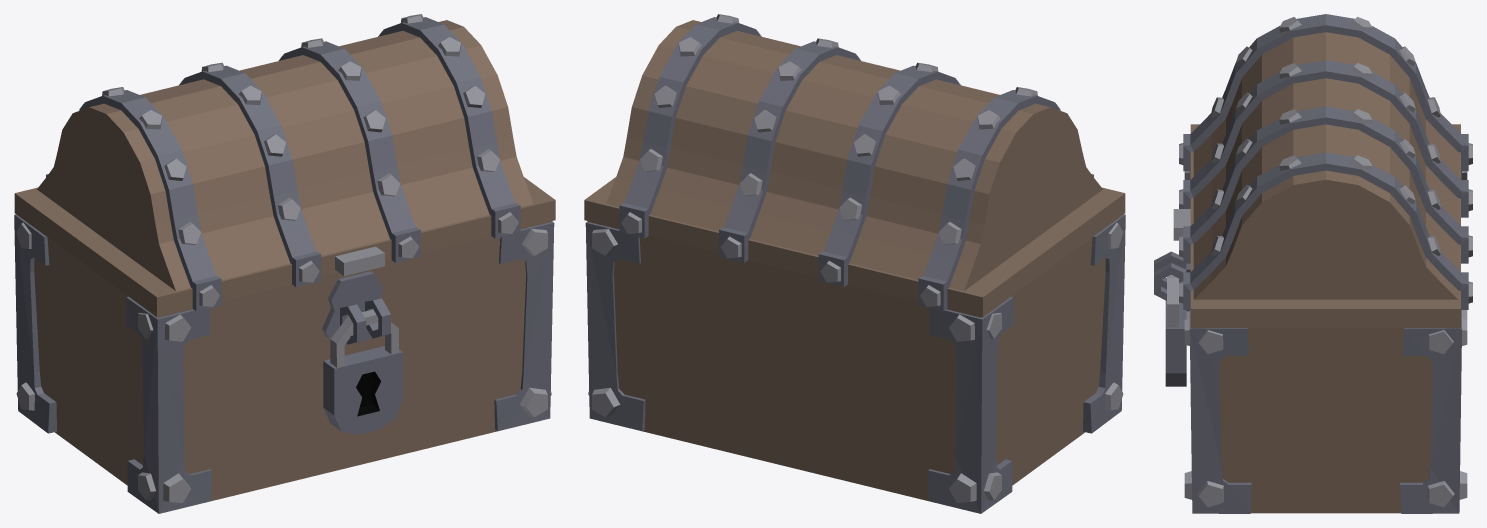
Rendered from _trunk_19.fbx.
3 views of the same model, side by side, from view 1: azimuth 30°, elevation 25°; view 2: azimuth 150°, elevation 25°; view 3: azimuth 270°, elevation 25° (orthographic). The views are drawn at different scales.
Parts seen in each view (by area): view 1: trunk_19; view 2: trunk_19; view 3: trunk_19.
Part boxes in pixels (x1,y1,x2,y2): trunk_19: [14, 14, 555, 513]; trunk_19: [584, 14, 1125, 513]; trunk_19: [1154, 14, 1472, 513].
Size of the model in its own units: 88.01 by 74.29 by 63.78.
